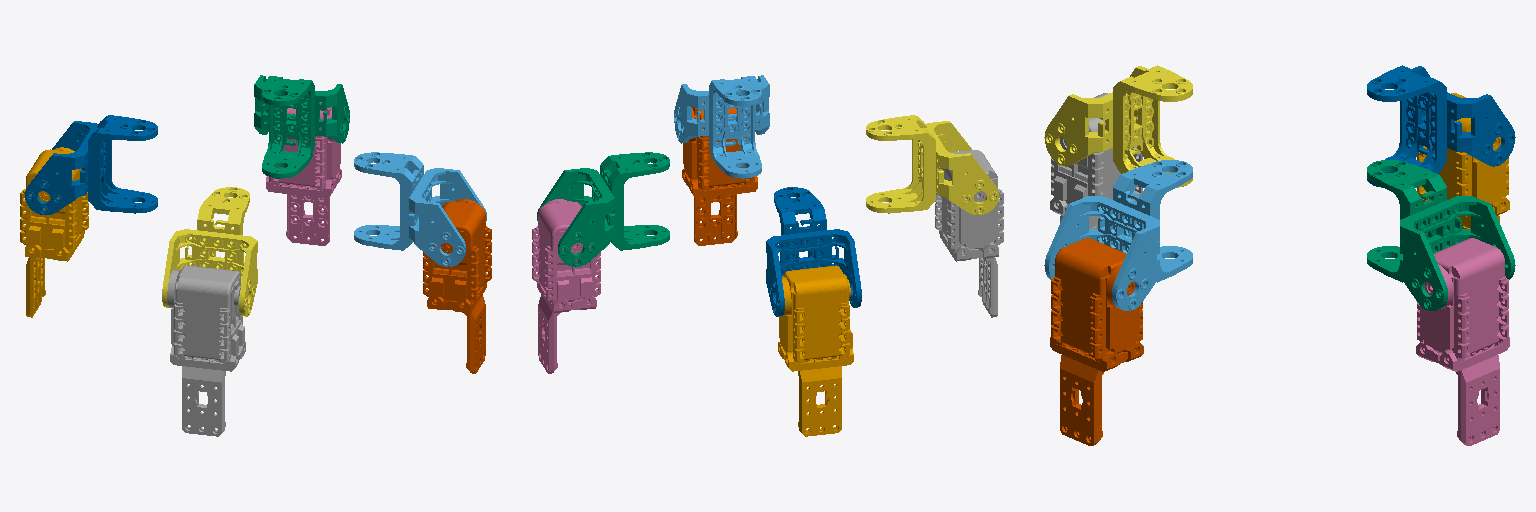
robot.urdf — Bioloid_Quadruped_Model:
<?xml version='1.0' encoding='utf-8'?>
<robot name="Bioloid_Quadruped_Model">
    <link name="base_link">
        <inertial>
            <origin xyz="3.217737512478091e-07 -0.0006208967582803453 -0.02167933173791836" rpy="0.0 0.0 0.0" />
            <mass value="0.3945572703862656" />
            <inertia ixx="0.0008062948648380765" iyy="0.0004776395944418309" izz="0.00114506488469596" ixy="-2.7497490553469346e-08" iyz="-3.2439569827517864e-07" ixz="-3.097941264168277e-10" />
        </inertial>
        <visual name="base_link_visual">
            <origin xyz="0.0 0.0 0.0" rpy="0.0 0.0 0.0" />
            <geometry>
                <mesh filename="meshes/base_link.stl" scale="0.001 0.001 0.001" />
            </geometry>
        </visual>
        <collision name="base_link_collision">
            <origin xyz="0.0 0.0 0.0" rpy="0.0 0.0 0.0" />
            <geometry>
                <mesh filename="meshes/base_link.stl" scale="0.001 0.001 0.001" />
            </geometry>
        </collision>
    </link>
    <link name="FR_Hip">
        <inertial>
            <origin xyz="-0.018668157324061036 0.022973185419977744 0.018666612511943532" rpy="0.0 -0.0 0.0" />
            <mass value="0.04253689044965901" />
            <inertia ixx="1.8169615618694648e-05" iyy="1.8136930768790157e-05" izz="1.816943908045572e-05" ixy="1.220731168130027e-06" iyz="-1.2208608291347044e-06" ixz="9.283634929247045e-08" />
        </inertial>
        <visual name="FR_Hip_visual">
            <origin xyz="4.4444448121794266e-14 -3.9968028886505636e-16 3.219646771412954e-14" rpy="1.5707963267949003 -4.6115879164695115e-29 8.6926450496864e-15" />
            <geometry>
                <mesh filename="meshes/FR_Hip.stl" scale="0.001 0.001 0.001" />
            </geometry>
        </visual>
        <collision name="FR_Hip_collision">
            <origin xyz="4.4444448121794266e-14 -3.9968028886505636e-16 3.219646771412954e-14" rpy="1.5707963267949003 -4.6115879164695115e-29 8.6926450496864e-15" />
            <geometry>
                <mesh filename="meshes/FR_Hip.stl" scale="0.001 0.001 0.001" />
            </geometry>
        </collision>
    </link>
    <link name="FL_Hip">
        <inertial>
            <origin xyz="-0.018666612512926336 0.02297318542160572 -0.018668157324469394" rpy="0.0 -0.0 0.0" />
            <mass value="0.042536890445288286" />
            <inertia ixx="1.8169439080177526e-05" iyy="1.8136930767766182e-05" izz="1.8169615615768562e-05" ixy="1.2208608287358468e-06" iyz="1.2207311675215232e-06" ixz="-9.283634903110881e-08" />
        </inertial>
        <visual name="FL_Hip_visual">
            <origin xyz="4.575007039875345e-14 -1.7763568394002505e-17 3.507416579395795e-14" rpy="1.5707963267948768 5.604829633550335e-31 9.447140176785709e-17" />
            <geometry>
                <mesh filename="meshes/FL_Hip.stl" scale="0.001 0.001 0.001" />
            </geometry>
        </visual>
        <collision name="FL_Hip_collision">
            <origin xyz="4.575007039875345e-14 -1.7763568394002505e-17 3.507416579395795e-14" rpy="1.5707963267948768 5.604829633550335e-31 9.447140176785709e-17" />
            <geometry>
                <mesh filename="meshes/FL_Hip.stl" scale="0.001 0.001 0.001" />
            </geometry>
        </collision>
    </link>
    <link name="BR_Hip">
        <inertial>
            <origin xyz="0.01866661251301758 0.02297318542160571 0.018668157324536024" rpy="0.0 -0.0 0.0" />
            <mass value="0.04253689044528844" />
            <inertia ixx="1.8169439080177173e-05" iyy="1.8136930767766108e-05" izz="1.8169615615768555e-05" ixy="-1.220860828735712e-06" iyz="-1.2207311675213527e-06" ixz="-9.283634903084627e-08" />
        </inertial>
        <visual name="BR_Hip_visual">
            <origin xyz="4.311218049224408e-14 1.865174681370263e-16 3.595346242946107e-14" rpy="-1.5707963267948934 1.1774227769444482e-60 -3.141592653589793" />
            <geometry>
                <mesh filename="meshes/BR_Hip.stl" scale="0.001 0.001 0.001" />
            </geometry>
        </visual>
        <collision name="BR_Hip_collision">
            <origin xyz="4.311218049224408e-14 1.865174681370263e-16 3.595346242946107e-14" rpy="-1.5707963267948934 1.1774227769444482e-60 -3.141592653589793" />
            <geometry>
                <mesh filename="meshes/BR_Hip.stl" scale="0.001 0.001 0.001" />
            </geometry>
        </collision>
    </link>
    <link name="BL_Hip">
        <inertial>
            <origin xyz="0.018668157324152192 0.022973185419977935 -0.0186666125118764" rpy="0.0 -0.0 0.0" />
            <mass value="0.042536890449659026" />
            <inertia ixx="1.8169615618694837e-05" iyy="1.8136930768790306e-05" izz="1.8169439080455915e-05" ixy="-1.220731168130068e-06" iyz="1.2208608291346652e-06" ixz="9.283634929218553e-08" />
        </inertial>
        <visual name="BL_Hip_visual">
            <origin xyz="4.68070027181966e-14 -4.174438572590589e-16 3.459454944731988e-14" rpy="-1.570796326794897 7.161843189399387e-30 3.1415926535897847" />
            <geometry>
                <mesh filename="meshes/BL_Hip.stl" scale="0.001 0.001 0.001" />
            </geometry>
        </visual>
        <collision name="BL_Hip_collision">
            <origin xyz="4.68070027181966e-14 -4.174438572590589e-16 3.459454944731988e-14" rpy="-1.570796326794897 7.161843189399387e-30 3.1415926535897847" />
            <geometry>
                <mesh filename="meshes/BL_Hip.stl" scale="0.001 0.001 0.001" />
            </geometry>
        </collision>
    </link>
    <link name="FR_Leg">
        <inertial>
            <origin xyz="-0.0247308162490421 -0.015277990613796923 -0.0057880069808526535" rpy="0.0 -1.6422226838308199e-28 1.5777218104420236e-30" />
            <mass value="0.07210855947361666" />
            <inertia ixx="2.7116764834131184e-05" iyy="3.7585354293326055e-05" izz="2.2755853150201203e-05" ixy="-3.355322684653534e-06" iyz="-1.1991990578717728e-06" ixz="-1.2788645590324733e-05" />
        </inertial>
        <visual name="FR_Leg_visual">
            <origin xyz="3.3113903530335163e-09 1.2674441940419e-10 -3.311390059934638e-09" rpy="2.3561944901923417 0.7853981633974431 3.1415926535897767" />
            <geometry>
                <mesh filename="meshes/FR_Leg.stl" scale="0.001 0.001 0.001" />
            </geometry>
        </visual>
        <collision name="FR_Leg_collision">
            <origin xyz="3.3113903530335163e-09 1.2674441940419e-10 -3.311390059934638e-09" rpy="2.3561944901923417 0.7853981633974431 3.1415926535897767" />
            <geometry>
                <mesh filename="meshes/FR_Leg.stl" scale="0.001 0.001 0.001" />
            </geometry>
        </collision>
    </link>
    <link name="FL_Leg">
        <inertial>
            <origin xyz="0.0057859373906217915 -0.015275063771119335 0.024732885839324148" rpy="0.0 -5.595214155379179e-29 0.0" />
            <mass value="0.07210855947369664" />
            <inertia ixx="2.2759486563865445e-05" iyy="3.758624139430155e-05" izz="2.7113831815778427e-05" ixy="1.1971581058590036e-06" iyz="3.3527204680457515e-06" ixz="-1.2788202039874856e-05" />
        </inertial>
        <visual name="FL_Leg_visual">
            <origin xyz="3.311389562554723e-09 1.2681151240201417e-10 -3.3113893049829814e-09" rpy="-2.3561944901923213 -0.7853981633974557 -2.1005088792167953e-14" />
            <geometry>
                <mesh filename="meshes/FL_Leg.stl" scale="0.001 0.001 0.001" />
            </geometry>
        </visual>
        <collision name="FL_Leg_collision">
            <origin xyz="3.311389562554723e-09 1.2681151240201417e-10 -3.3113893049829814e-09" rpy="-2.3561944901923213 -0.7853981633974557 -2.1005088792167953e-14" />
            <geometry>
                <mesh filename="meshes/FL_Leg.stl" scale="0.001 0.001 0.001" />
            </geometry>
        </collision>
    </link>
    <link name="BR_Leg">
        <inertial>
            <origin xyz="0.02473288583925933 0.01527506377118618 0.00578593739068638" rpy="0.0 -3.7795432499907104e-29 0.0" />
            <mass value="0.07210855947369653" />
            <inertia ixx="2.7113831815778058e-05" iyy="3.758624139430048e-05" izz="2.2759486563864066e-05" ixy="-3.3527204680459463e-06" iyz="-1.1971581058589392e-06" ixz="-1.2788202039874592e-05" />
        </inertial>
        <visual name="BR_Leg_visual">
            <origin xyz="-3.311453751209115e-09 -1.2674482796626307e-10 3.3114538933176617e-09" rpy="0.7853981633974368 -0.7853981633974538 2.4463814547562022e-14" />
            <geometry>
                <mesh filename="meshes/BR_Leg.stl" scale="0.001 0.001 0.001" />
            </geometry>
        </visual>
        <collision name="BR_Leg_collision">
            <origin xyz="-3.311453751209115e-09 -1.2674482796626307e-10 3.3114538933176617e-09" rpy="0.7853981633974368 -0.7853981633974538 2.4463814547562022e-14" />
            <geometry>
                <mesh filename="meshes/BR_Leg.stl" scale="0.001 0.001 0.001" />
            </geometry>
        </collision>
    </link>
    <link name="BL_Leg">
        <inertial>
            <origin xyz="-0.026060512790645165 0.013397515730857243 0.00445831043930073" rpy="0.0 1.124620163179249e-28 0.0" />
            <mass value="0.0721085594736969" />
            <inertia ixx="2.1650099278941074e-05" iyy="3.7724861229696696e-05" izz="2.8084599265307002e-05" ixy="-4.6171234653434635e-07" iyz="2.6172747087214727e-06" ixz="1.2718892122177328e-05" />
        </inertial>
        <visual name="BL_Leg_visual">
            <origin xyz="8.961250408390243e-11 -4.683023426821364e-09 8.961213104896616e-11" rpy="-0.7853981633974587 -0.7853981633974421 -3.141592653589766" />
            <geometry>
                <mesh filename="meshes/BL_Leg.stl" scale="0.001 0.001 0.001" />
            </geometry>
        </visual>
        <collision name="BL_Leg_collision">
            <origin xyz="8.961250408390243e-11 -4.683023426821364e-09 8.961213104896616e-11" rpy="-0.7853981633974587 -0.7853981633974421 -3.141592653589766" />
            <geometry>
                <mesh filename="meshes/BL_Leg.stl" scale="0.001 0.001 0.001" />
            </geometry>
        </collision>
    </link>
    <joint name="base_link_FR_Hip_Joint" type="revolute">
        <origin xyz="0.04650000000004563 -0.05199999999996651 -0.000999999999999952" rpy="-1.5707963267949003 -2.472056497036426e-31 3.141592653589793" />
        <parent link="base_link" />
        <child link="FR_Hip" />
        <axis xyz="-0.0 1.0 5.849663054843777e-15" />
        <limit lower="-1.570796" upper="0.872665" effort="1000000" velocity="1000000" />
    </joint>
    <joint name="base_link_FL_Hip_Joint" type="revolute">
        <origin xyz="0.04650000000004563 0.0520000000000335 -0.001000000000000183" rpy="-1.5707963267948883 -2.472056497036426e-31 3.141592653589793" />
        <parent link="base_link" />
        <child link="FL_Hip" />
        <axis xyz="0.0 1.0 -5.932832083219199e-15" />
        <limit lower="-0.872665" upper="1.570796" effort="1000000" velocity="1000000" />
    </joint>
    <joint name="base_link_BR_Hip_Joint" type="revolute">
        <origin xyz="-0.046499999999954376 -0.05199999999996651 -0.000999999999999952" rpy="-1.5707963267948912 -2.472056497036426e-31 3.141592653589793" />
        <parent link="base_link" />
        <child link="BR_Hip" />
        <axis xyz="0.0 1.0 -3.0632783374918904e-15" />
        <limit lower="-0.872665" upper="1.570796" effort="1000000" velocity="1000000" />
    </joint>
    <joint name="base_link_BL_Hip_Joint" type="revolute">
        <origin xyz="-0.046499999999954376 0.0520000000000335 -0.001000000000000183" rpy="-1.570796326794893 -2.472056497036426e-31 3.141592653589793" />
        <parent link="base_link" />
        <child link="BL_Hip" />
        <axis xyz="0.0 1.0 -1.3683992102213572e-15" />
        <limit lower="-1.570796" upper="0.872665" effort="1000000" velocity="1000000" />
    </joint>
    <joint name="FR_Hip_FR_Leg_Joint" type="revolute">
        <origin xyz="-0.04949747000000013 0.035499999999999886 0.0197989900000002" rpy="-1.5707963267949137 1.6951260072622784e-14 -2.3561944901923386" />
        <parent link="FR_Hip" />
        <child link="FR_Leg" />
        <axis xyz="-0.5000001547244821 -0.707107 0.5000001547244701" />
        <limit lower="0.0" upper="1.570796" effort="1000000" velocity="1000000" />
    </joint>
    <joint name="FL_Hip_FL_Leg_Joint" type="revolute">
        <origin xyz="-0.04949747000000006 0.035499999999999886 -0.01979899000000021" rpy="1.5707963267948932 -3.284970615432205e-15 2.356194490192351" />
        <parent link="FL_Hip" />
        <child link="FL_Leg" />
        <axis xyz="-0.5000001547244846 -0.707107 0.5000001547244677" />
        <limit lower="-1.570796" upper="0.0" effort="1000000" velocity="1000000" />
    </joint>
    <joint name="BR_Hip_BR_Leg_Joint" type="revolute">
        <origin xyz="0.04949746999999996 0.03550000000000006 0.01979898999999989" rpy="1.570796326794905 8.313863881483637e-15 2.3561944901923506" />
        <parent link="BR_Hip" />
        <child link="BR_Leg" />
        <axis xyz="0.5000001547244746 0.707107 -0.5000001547244777" />
        <limit lower="-1.570796" upper="0.0" effort="1000000" velocity="1000000" />
    </joint>
    <joint name="BL_Hip_BL_Leg_Joint" type="revolute">
        <origin xyz="0.019798989999999687 0.035499999999999934 -0.04949747000000004" rpy="1.570796326794887 9.637206637771678e-15 -2.356194490192339" />
        <parent link="BL_Hip" />
        <child link="BL_Leg" />
        <axis xyz="-0.5000001547244807 0.707107 -0.5000001547244715" />
        <limit lower="-1.570796" upper="0.0" effort="1000000" velocity="1000000" />
    </joint>
</robot>

--- Render facts (derived) ---
The picture shows the robot from 3 angles, left to right: view 1: azimuth 30°, elevation 25°; view 2: azimuth 150°, elevation 25°; view 3: azimuth 270°, elevation 25°; orthographic projection.
Robot: Bioloid_Quadruped_Model — 9 links, 8 joints (8 revolute); root link base_link; default pose: all joints at 0.
Visible links, largest first — view 1: BR_Leg, BL_Hip, FR_Hip, FL_Hip, FR_Leg, BR_Hip, BL_Leg, FL_Leg; view 2: BL_Leg, BR_Hip, FL_Hip, FR_Hip, FL_Leg, BL_Hip, BR_Leg, FR_Leg; view 3: FR_Leg, FL_Leg, FR_Hip, FL_Hip, BR_Hip, BL_Hip, BL_Leg, BR_Leg.
Boxes of the visible links, left/top/right/bottom form: BR_Leg: left=167, top=265, right=245, bottom=436; BL_Hip: left=25, top=115, right=157, bottom=214; FR_Hip: left=354, top=152, right=486, bottom=266; FL_Hip: left=254, top=75, right=349, bottom=178; FR_Leg: left=423, top=199, right=491, bottom=373; BR_Hip: left=162, top=187, right=257, bottom=316; BL_Leg: left=20, top=147, right=88, bottom=317; FL_Leg: left=266, top=102, right=341, bottom=245; BL_Leg: left=778, top=265, right=853, bottom=436; BR_Hip: left=866, top=115, right=998, bottom=214; FL_Hip: left=537, top=152, right=669, bottom=266; FR_Hip: left=674, top=75, right=769, bottom=178; FL_Leg: left=532, top=199, right=600, bottom=373; BL_Hip: left=766, top=187, right=861, bottom=316; BR_Leg: left=935, top=150, right=1003, bottom=317; FR_Leg: left=682, top=102, right=757, bottom=245; FR_Leg: left=1050, top=238, right=1143, bottom=445; FL_Leg: left=1416, top=238, right=1509, bottom=445; FR_Hip: left=1044, top=160, right=1192, bottom=310; FL_Hip: left=1367, top=160, right=1515, bottom=310; BR_Hip: left=1044, top=65, right=1192, bottom=187; BL_Hip: left=1367, top=65, right=1515, bottom=187; BL_Leg: left=1417, top=93, right=1509, bottom=228; BR_Leg: left=1050, top=93, right=1142, bottom=228.
Bounding box of the posed robot: 0.2119 × 0.2229 × 0.1214 m (x, y, z).
Meshes: 9 distinct files referenced, 8 mesh visuals loaded (8 binary STL); not drawn: 1 (reference not matched to a file when rendering).